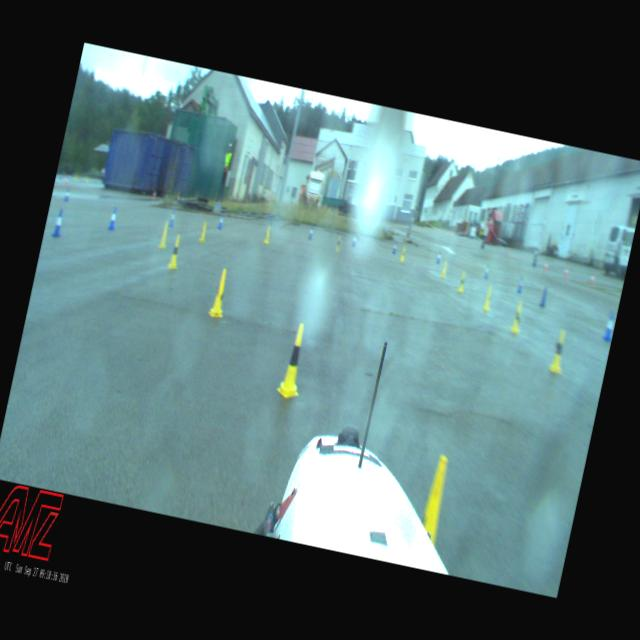blue_cone: (50, 206, 65, 238), (602, 308, 616, 342), (106, 204, 119, 230), (516, 272, 526, 294), (538, 285, 548, 307), (168, 206, 177, 226), (482, 260, 491, 280), (62, 184, 71, 203), (216, 212, 225, 230), (434, 246, 443, 264), (306, 223, 314, 240), (391, 238, 398, 255), (351, 232, 358, 248)
orange_cone: (588, 267, 597, 284), (562, 263, 570, 277), (542, 258, 550, 271)
yellow_cone: (415, 450, 455, 550), (274, 320, 313, 402), (206, 267, 232, 319), (548, 326, 570, 374), (166, 232, 184, 270), (509, 298, 526, 334), (482, 283, 496, 312), (157, 220, 170, 249), (456, 268, 468, 293), (198, 218, 208, 243), (263, 223, 273, 244), (439, 259, 448, 279), (334, 233, 342, 252), (399, 245, 406, 262)
